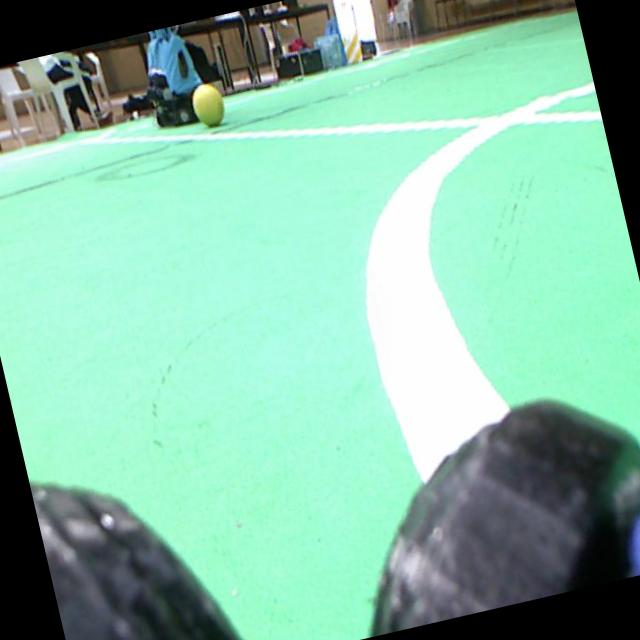ball: (191, 83, 223, 125)
